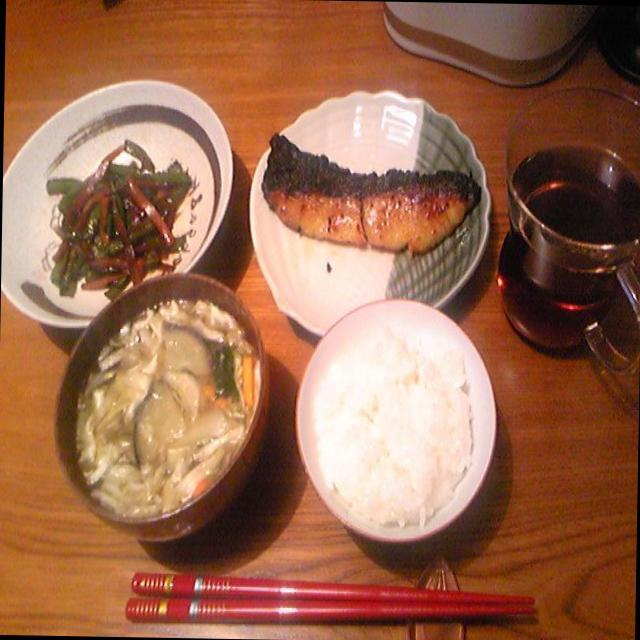Rice: (308, 317, 474, 537)
